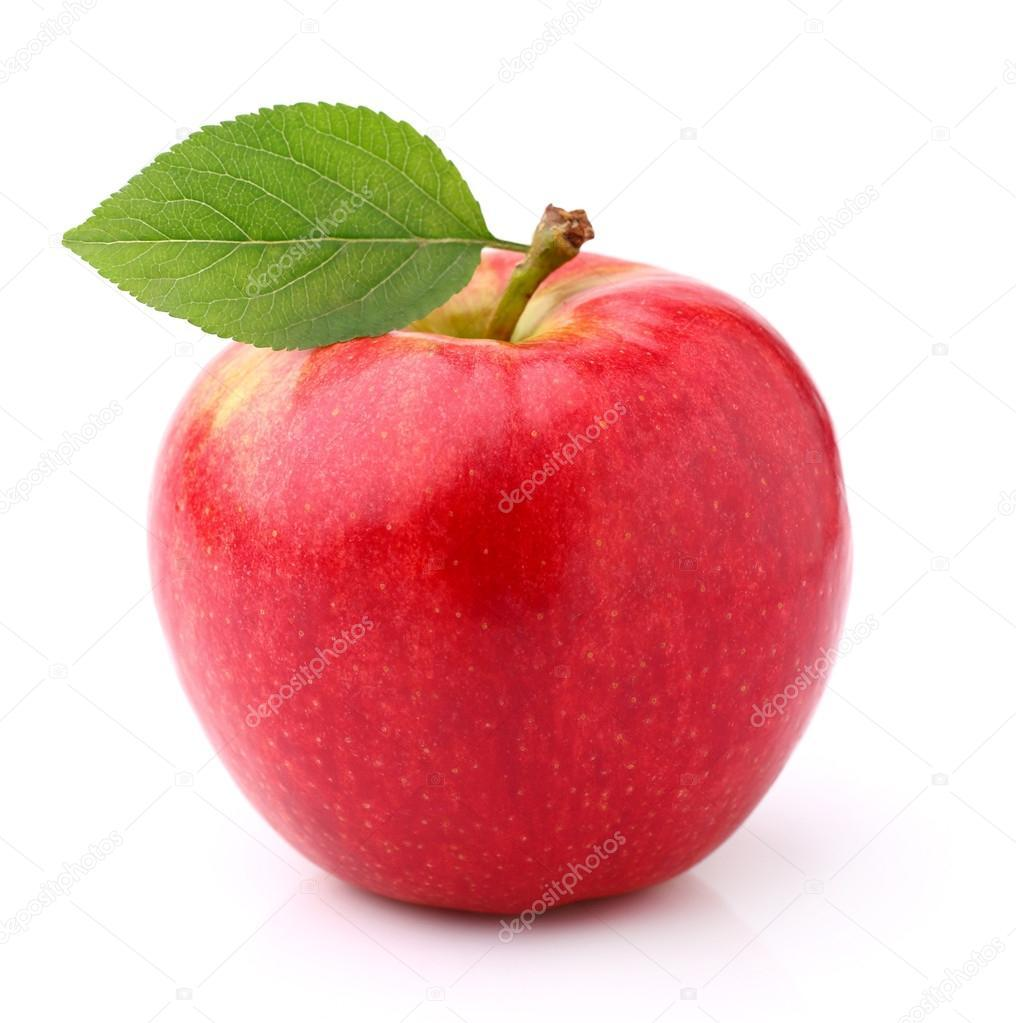Apple leaf: (58, 101, 499, 354)
